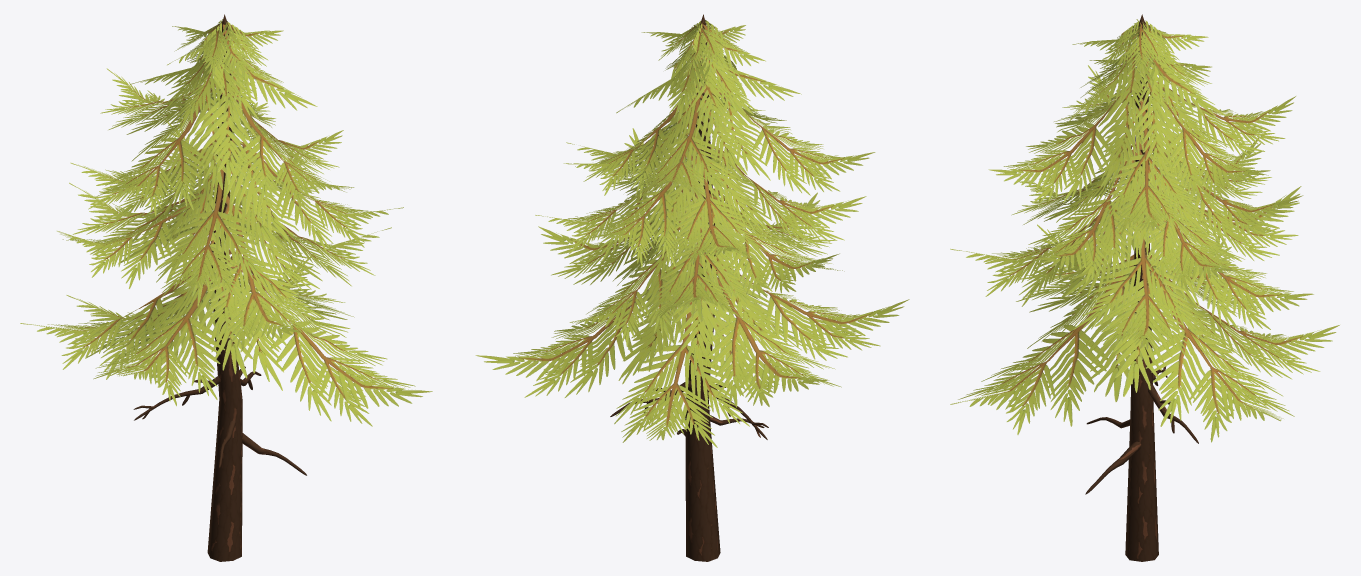
Rendered from pine_1.glb.
3 renders of one model, left to right at view 1: azimuth 30°, elevation 25°; view 2: azimuth 150°, elevation 25°; view 3: azimuth 270°, elevation 25°, orthographic.
Size of the model in its own units: 2.98 by 4.5 by 3.03.
Materials: 2 (2 with a texture image).
